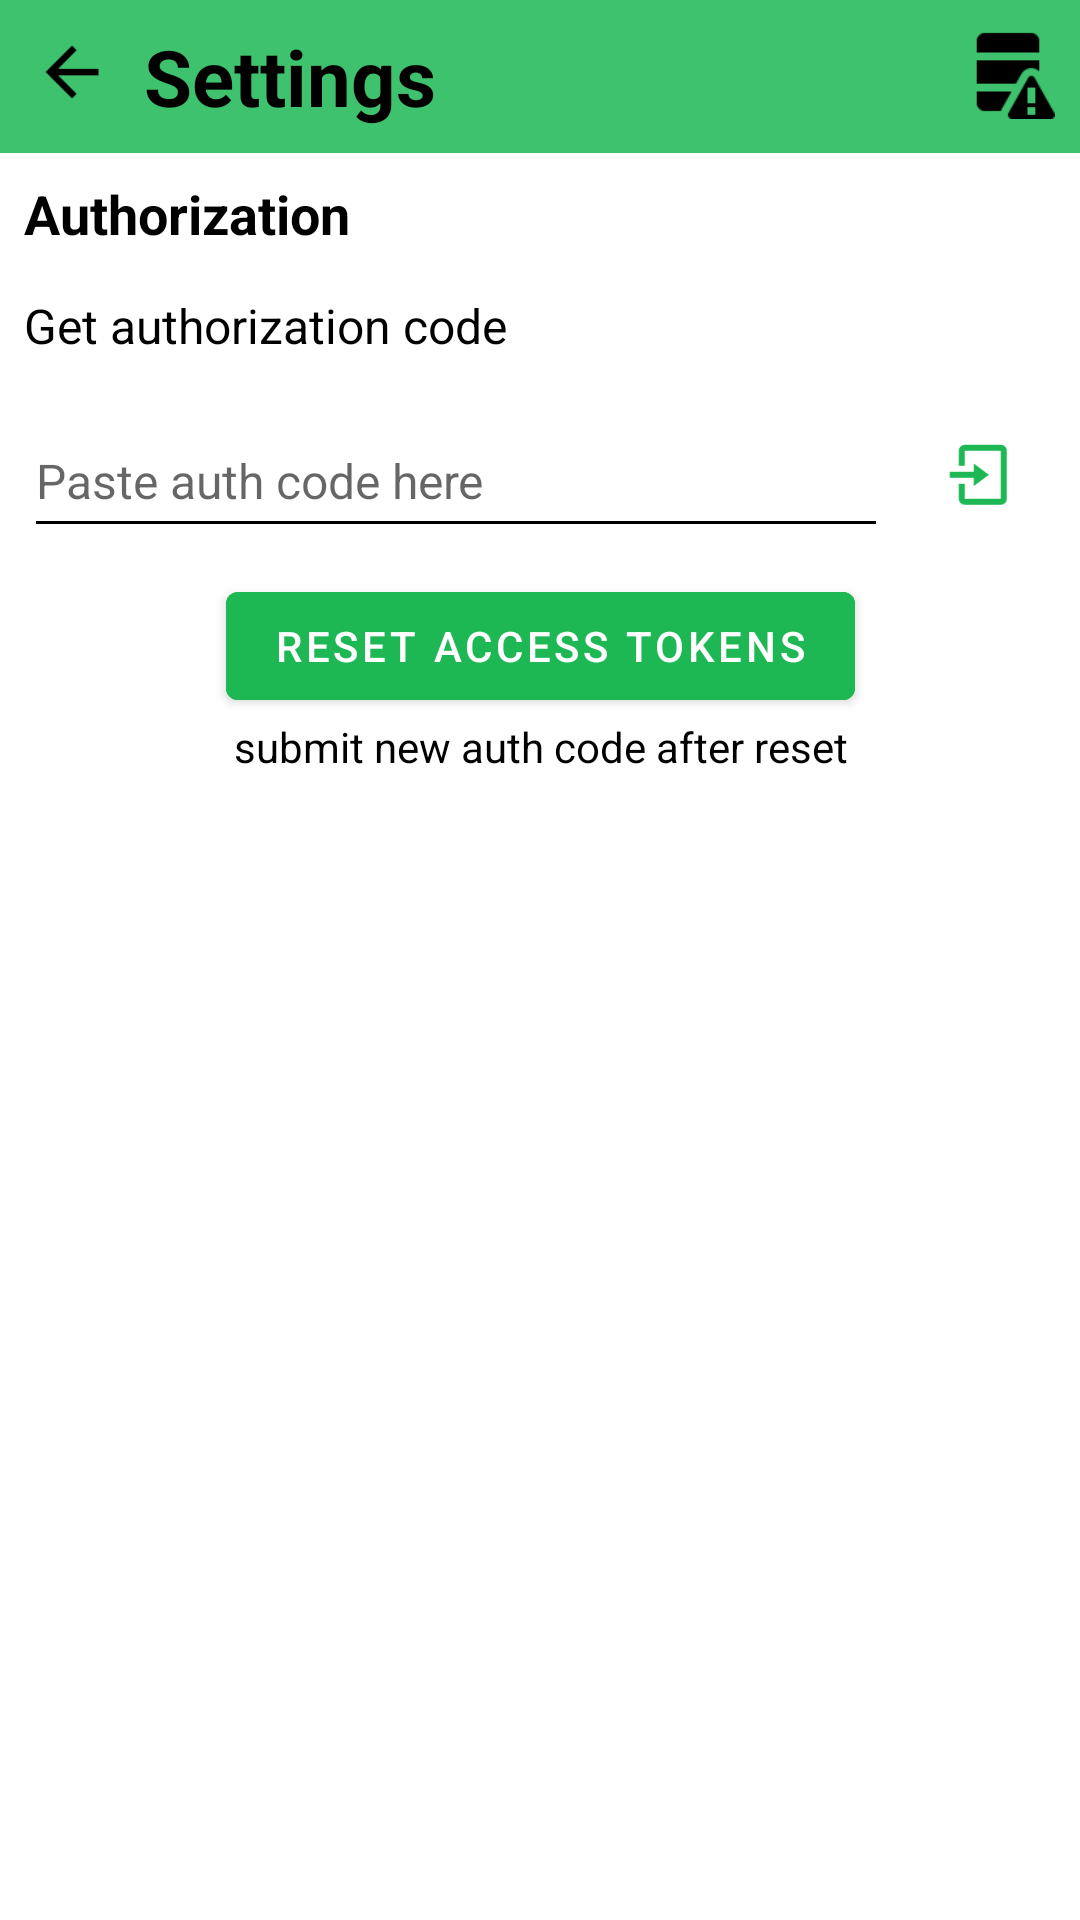

Icon click points for this 1080x1920 phone screenshot, format [x,y]:
enter: [978,474]
Go back to main page: [72,72]
